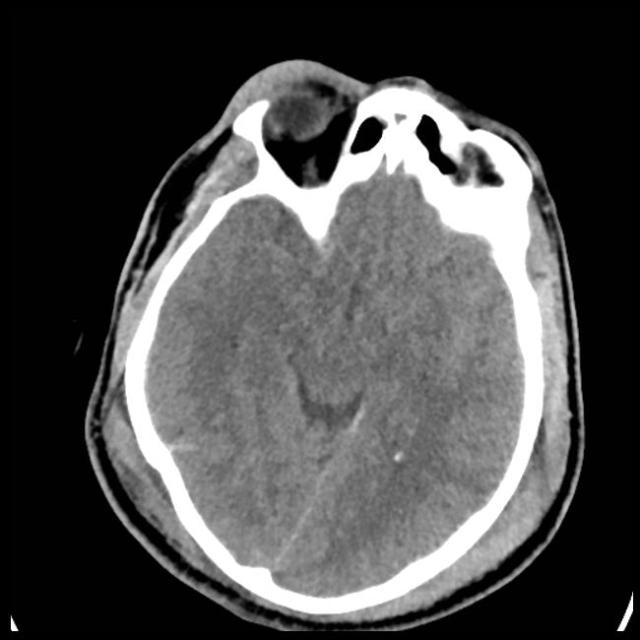lesion: (85, 58, 588, 630)
